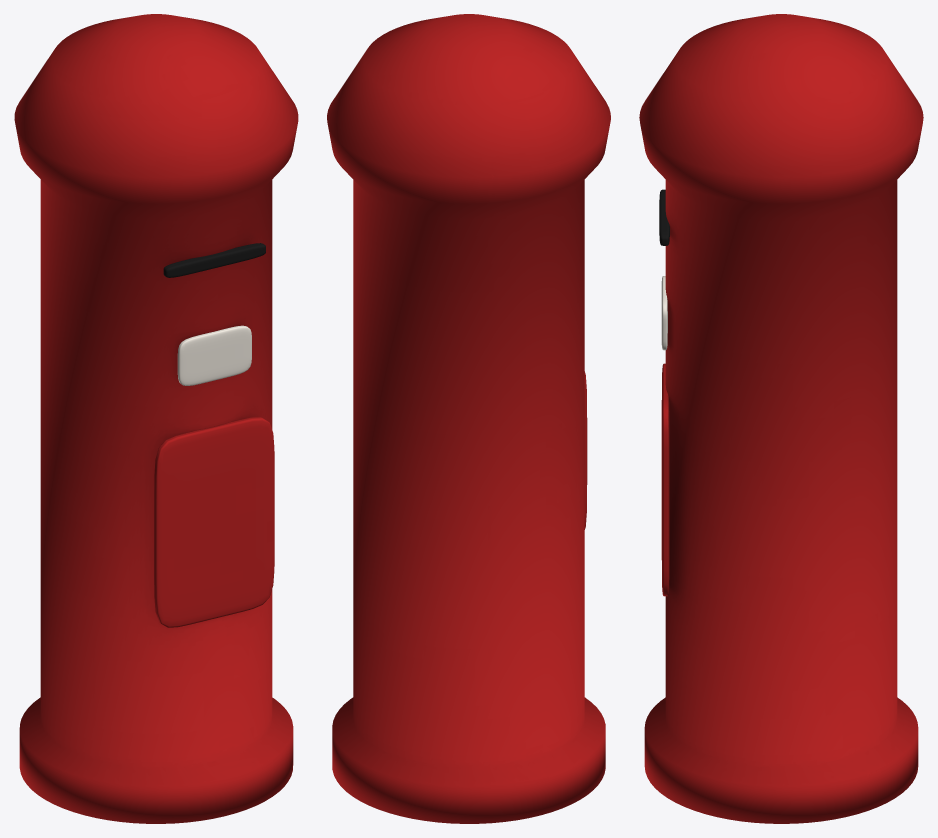
Rendered from uk-pillar-red.glb.
3 views of the same model, side by side, from view 1: azimuth 30°, elevation 25°; view 2: azimuth 150°, elevation 25°; view 3: azimuth 270°, elevation 25° (orthographic).
Parts seen in each view (by area): view 1: paint_primary, plate_cream, slot_dark; view 2: paint_primary; view 3: paint_primary.
Part boxes in pixels (x1,y1,x2,y2): paint_primary: (14, 14, 298, 823); plate_cream: (177, 325, 251, 385); slot_dark: (163, 243, 265, 277); paint_primary: (327, 14, 610, 823); paint_primary: (639, 14, 923, 823).
Bounding box in the file's own units: 0.54 × 1.55 × 0.54.
Materials: 3 (1 with a texture image).
